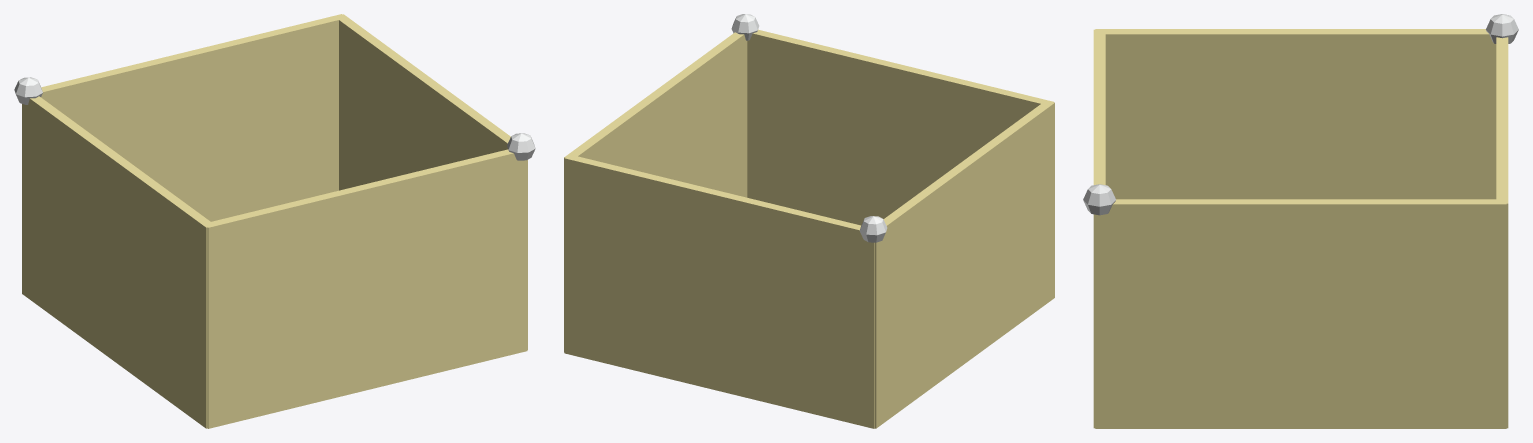
File: cursor_seleccion.glb
3 renders of one model, left to right at view 1: azimuth 30°, elevation 25°; view 2: azimuth 150°, elevation 25°; view 3: azimuth 270°, elevation 25°, orthographic. The views are drawn at different scales.
Parts seen in each view (by area): view 1: cursor_seleccion; view 2: cursor_seleccion; view 3: cursor_seleccion.
Part boxes in pixels (x1,y1,x2,y2): cursor_seleccion: (14, 14, 535, 428); cursor_seleccion: (564, 14, 1054, 428); cursor_seleccion: (1083, 14, 1518, 428).
Bounding box in the file's own units: 1.97 × 1.21 × 1.97.
